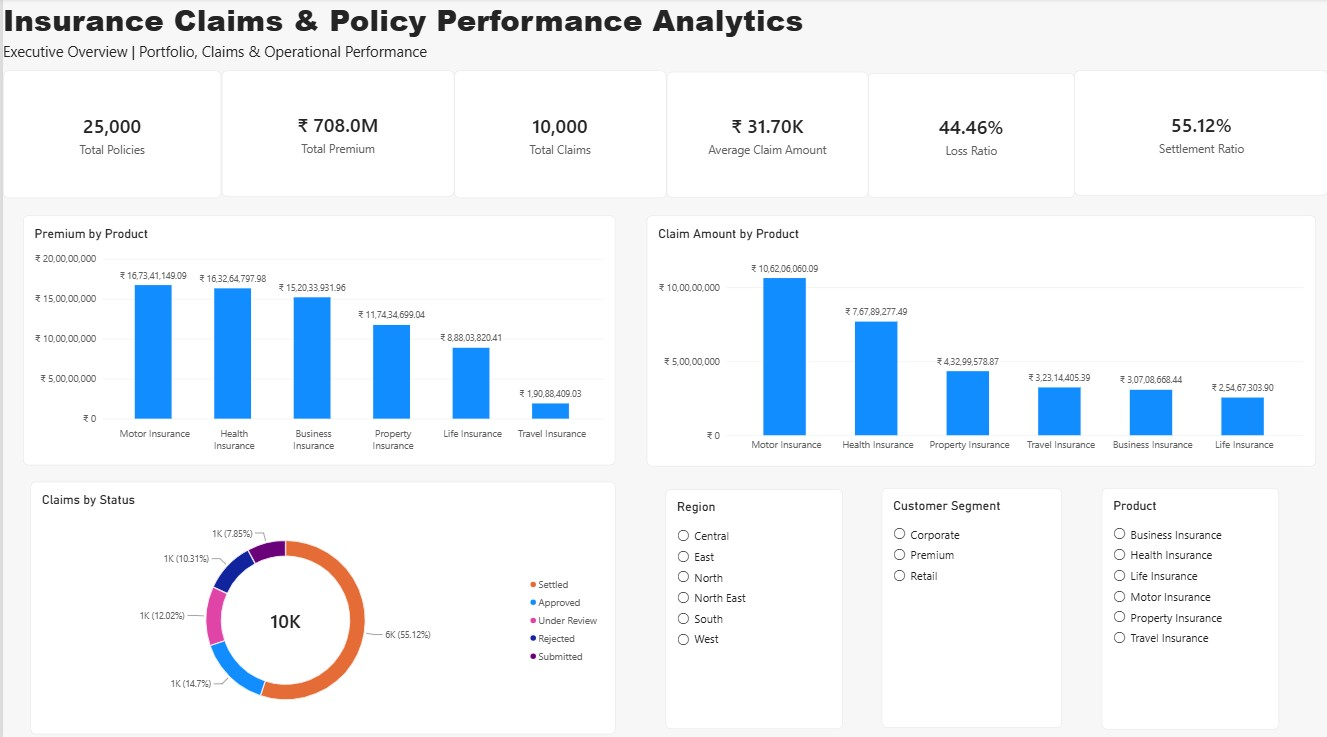

The page's visual inventory and layout, read from the dashboard file:
{"tool":"powerbi","page":{"name":"Executive Overview","canvas":[1920,1080],"ordinal":0},"visuals":[{"type":"card","fields":{"Values":["Measures Table.Total Policies"]},"box":[0,105,316.2,184.5],"z":0},{"type":"card","fields":{"Values":["Measures Table.Total Premium"]},"box":[316.7,105,336.9,182.6],"z":1000},{"type":"card","fields":{"Values":["Measures Table.Total Claims"]},"box":[653.3,105,306.8,184.5],"z":2000},{"type":"card","fields":{"Values":["Measures Table.Loss Ratio"]},"box":[1252.3,108.6,299.3,180.7],"z":3000},{"type":"card","fields":{"Values":["Measures Table.Settlement Ratio"]},"box":[1550.9,105,368.9,180.7],"z":4000},{"type":"card","fields":{"Values":["Measures Table.Average Claim Amount"]},"box":[960.9,106.8,291.8,182.6],"z":5000},{"type":"clusteredColumnChart","title":"Premium by Product","fields":{"Category":["Products.Product_Name"],"Y":["Measures Table.Total Premium"]},"box":[29,314.9,857.8,361.9],"z":6000},{"type":"clusteredColumnChart","title":"Claim Amount by Product","fields":{"Category":["Products.Product_Name"],"Y":["Measures Table.Total Claim Amount"]},"box":[932.7,314,968.5,362.9],"z":7000},{"type":"donutChart","title":"Claims by Status","fields":{"Category":["Claims.Claim_Status"],"Y":["Measures Table.Total Claims"]},"box":[39.8,700.3,846.9,365.6],"z":8000},{"type":"listSlicer","title":"Product","fields":{"Values":["Products.Product_Name"]},"box":[1590.7,709.4,257,349.3],"z":8001},{"type":"listSlicer","fields":{"Values":["Regions.Region"]},"box":[959.1,711.2,257,347.5],"z":8002},{"type":"listSlicer","title":"Customer Segment","fields":{"Values":["Customers.Customer_Segment"]},"box":[1272.2,709.4,260.6,347.5],"z":8003},{"type":"textbox","box":[0,0,1375.3,61.5],"z":8004},{"type":"textbox","box":[0,61.5,1174.5,43.4],"z":8005}]}

Visuals, with their boxes in screenshot pixels (x1, y1, x2, y2), scaled from the page's 1920x1080 canvas onto the 1327x737 screenshot:
card - Measures Table.Total Policies: <box>0,72,219,198</box>
card - Measures Table.Total Premium: <box>219,72,452,196</box>
card - Measures Table.Total Claims: <box>452,72,664,198</box>
card - Measures Table.Loss Ratio: <box>866,74,1072,197</box>
card - Measures Table.Settlement Ratio: <box>1072,72,1326,195</box>
card - Measures Table.Average Claim Amount: <box>664,73,866,197</box>
"Premium by Product" clusteredColumnChart: <box>20,215,613,462</box>
"Claim Amount by Product" clusteredColumnChart: <box>645,214,1314,462</box>
"Claims by Status" donutChart: <box>28,478,613,727</box>
"Product" listSlicer: <box>1099,484,1277,722</box>
listSlicer - Regions.Region: <box>663,485,841,722</box>
"Customer Segment" listSlicer: <box>879,484,1059,721</box>
textbox: <box>0,0,951,42</box>
textbox: <box>0,42,812,72</box>
